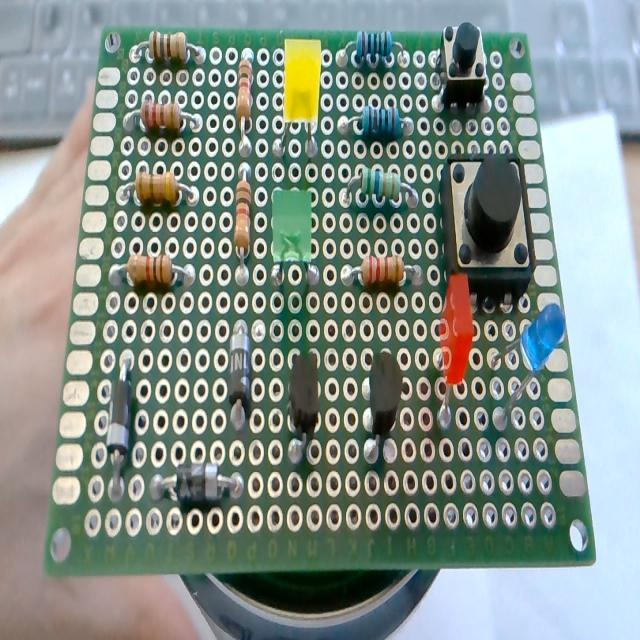diode: (145, 458, 246, 525), (100, 350, 138, 507), (223, 308, 257, 437)
led: (485, 306, 569, 449), (266, 23, 328, 168), (430, 271, 478, 430), (265, 184, 322, 295)
resistor: (114, 92, 207, 144), (114, 165, 204, 213), (331, 20, 412, 72), (338, 248, 428, 294), (104, 251, 201, 290), (340, 169, 421, 215), (231, 36, 258, 162), (126, 30, 210, 70), (229, 162, 256, 285), (336, 104, 415, 141)
switch: (430, 141, 549, 303), (429, 17, 497, 114)
transistor: (355, 344, 408, 469), (281, 345, 328, 473)
